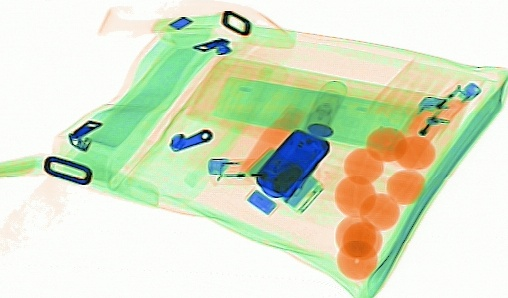lighter: (382, 93, 448, 170), (412, 81, 482, 143), (205, 155, 315, 182)
